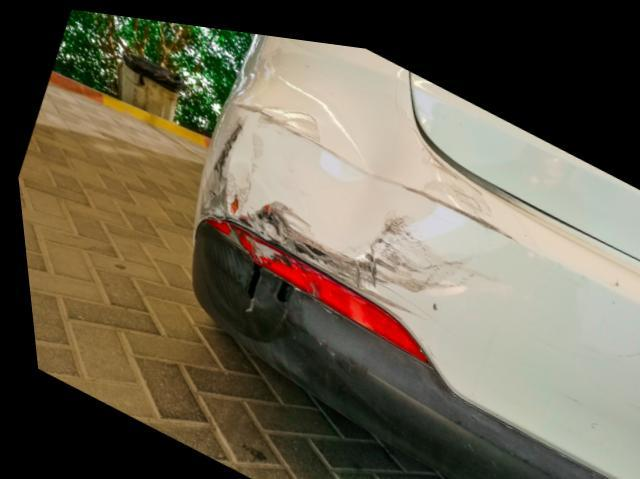crack: (239, 255, 258, 307)
dent: (325, 78, 392, 195)
scratch: (198, 105, 494, 305), (405, 119, 509, 222)
